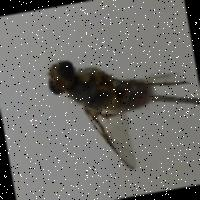Oriental-fruit-fly: (33, 28, 200, 188)
